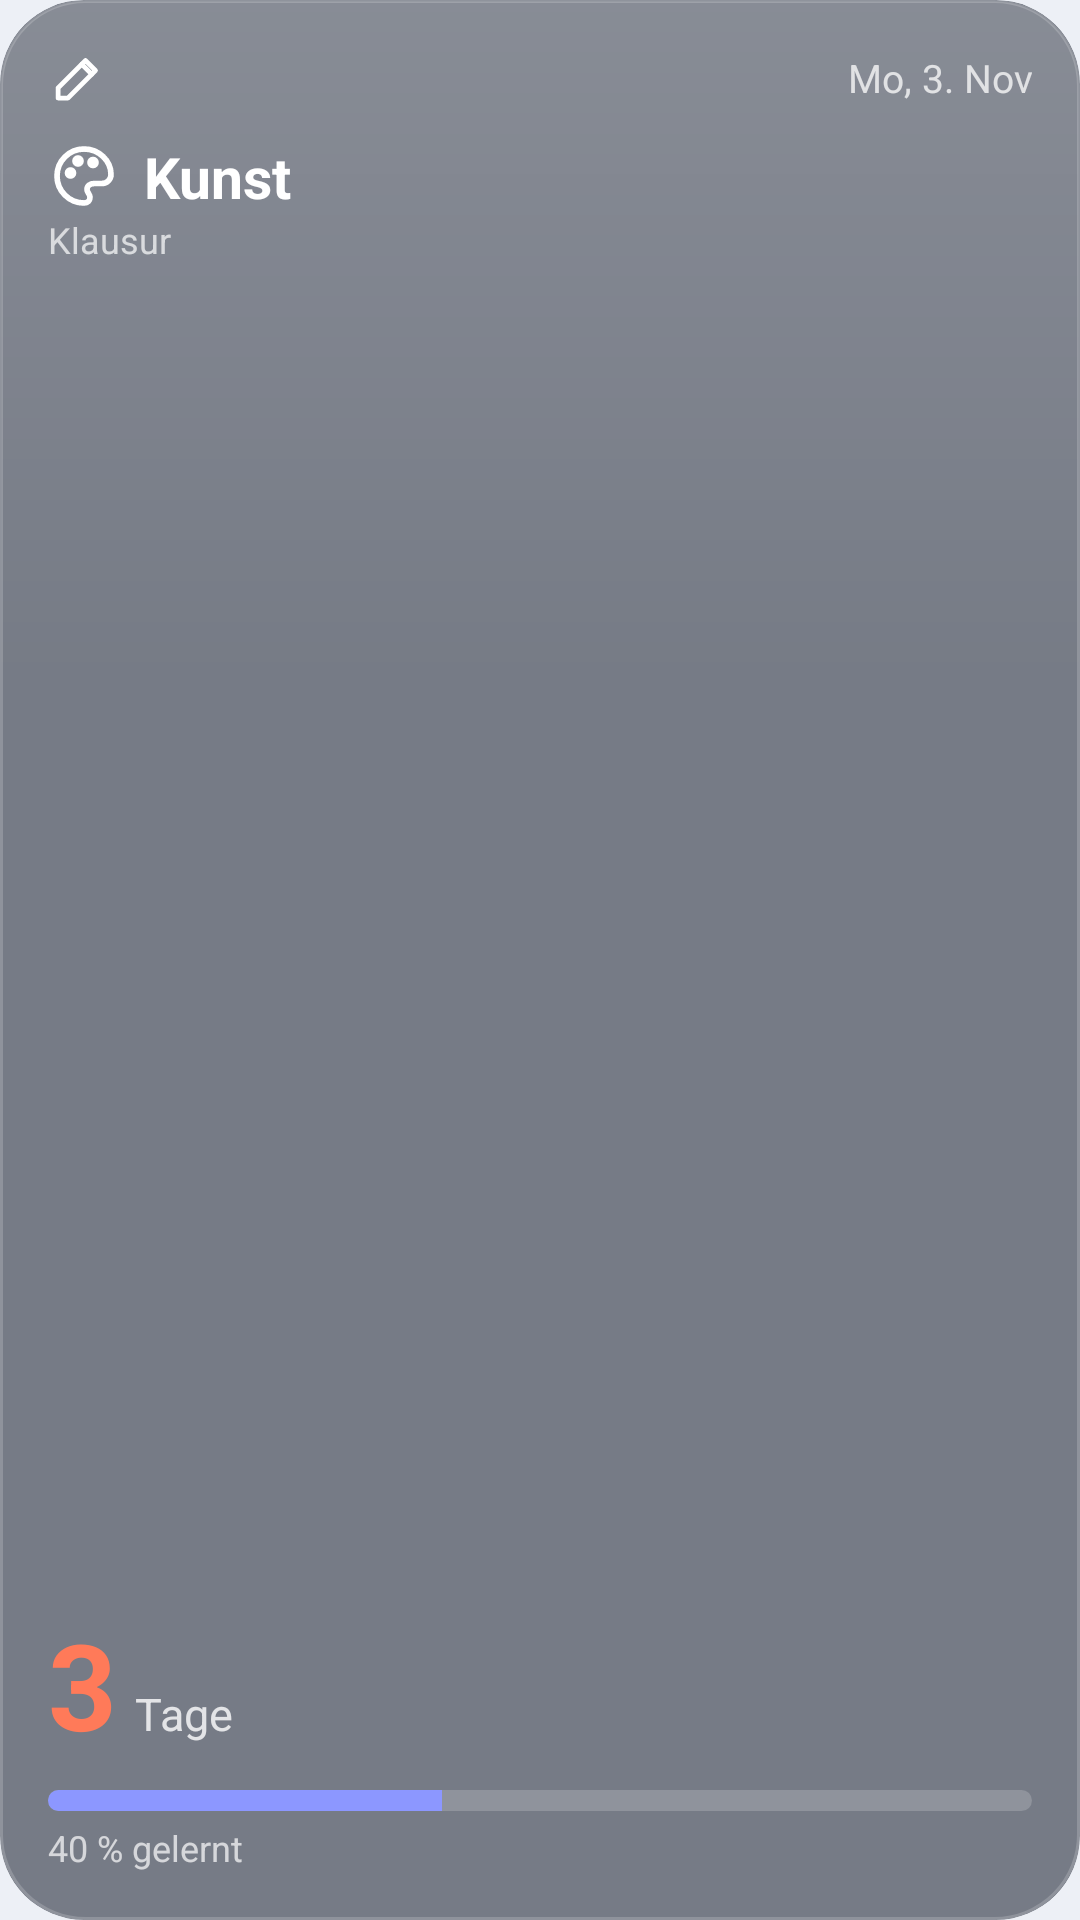

Named icons in this screenshot (1080px×1920px) and their bounding boxes, (x1, y1, x2, y2):
pen: (55, 58, 98, 101)
